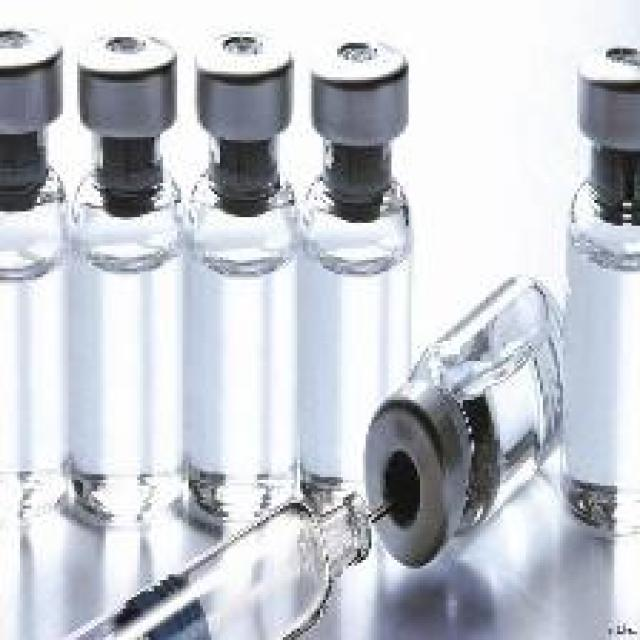syringe: (56, 447, 421, 640)
